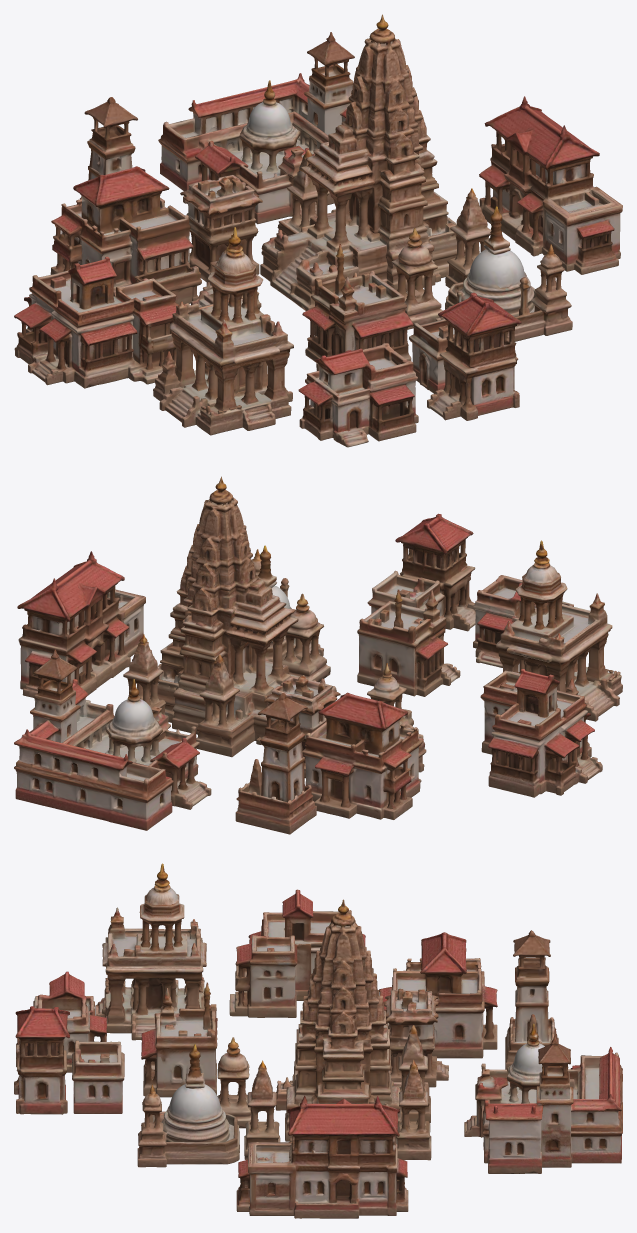
The model's file is Classical Town (South Asian).fbx.
The picture shows the model from 3 angles, top to bottom: view 1: azimuth 30°, elevation 25°; view 2: azimuth 150°, elevation 25°; view 3: azimuth 270°, elevation 25°; orthographic projection. The views are drawn at different scales.
Visible parts, largest first — view 1: tripo_node_acae7773; view 2: tripo_node_acae7773; view 3: tripo_node_acae7773.
Part boxes in pixels (bbox=[...]): tripo_node_acae7773: bbox=[14, 14, 622, 447]; tripo_node_acae7773: bbox=[14, 476, 622, 834]; tripo_node_acae7773: bbox=[14, 863, 622, 1218].
Bounding box in the file's own units: 0.9882 × 0.422 × 1.
